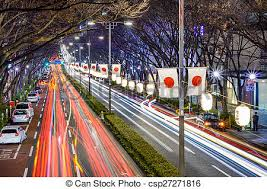Japanese Flag: (156, 67, 179, 97), (186, 65, 206, 96), (111, 61, 123, 81), (98, 62, 108, 79), (90, 60, 97, 76), (81, 63, 88, 72)
